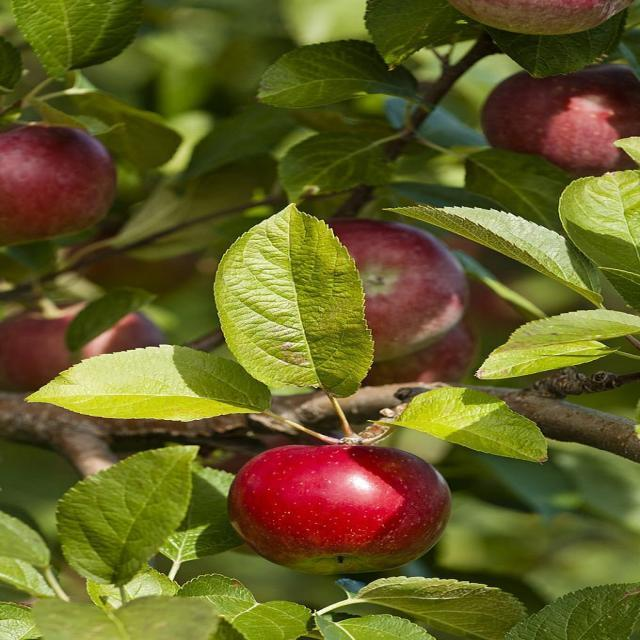Red Apple: (226, 445, 455, 567), (315, 221, 475, 345), (482, 64, 640, 170), (1, 124, 128, 244), (1, 302, 161, 390), (381, 313, 479, 387), (449, 1, 628, 35)
